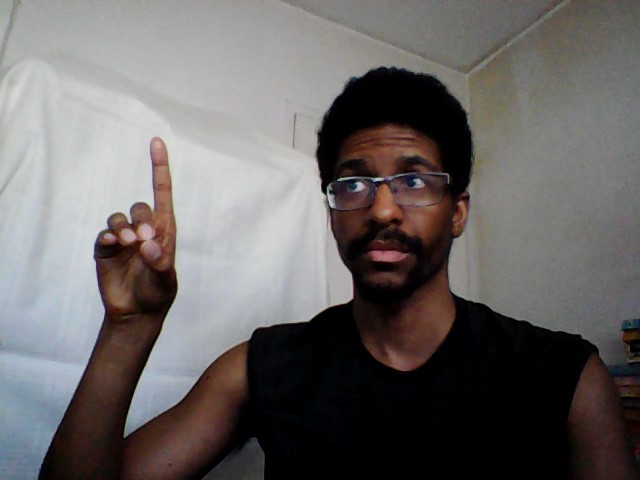d: (86, 131, 182, 329)
